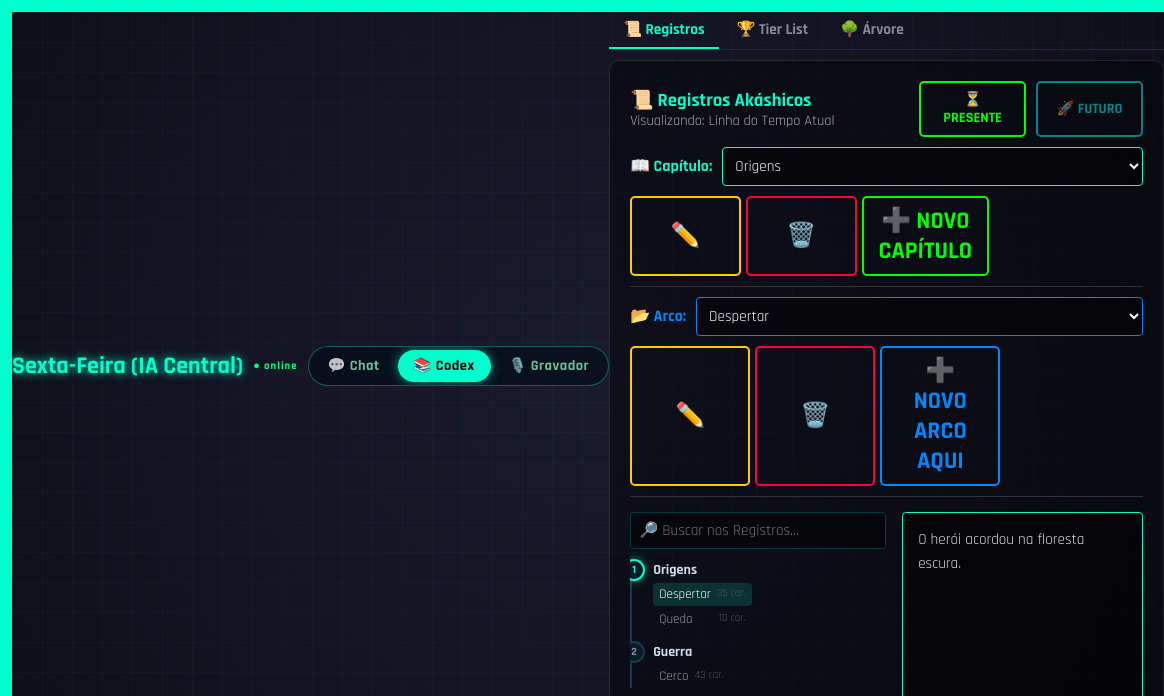
Test: NavegadorRegistros - busca › resultados ordenados por ocorrencias e mostram "N×"
Type "floresta" into the search field labelled "Buscar nos Registros" at point(758, 530), box [630, 512, 886, 549]
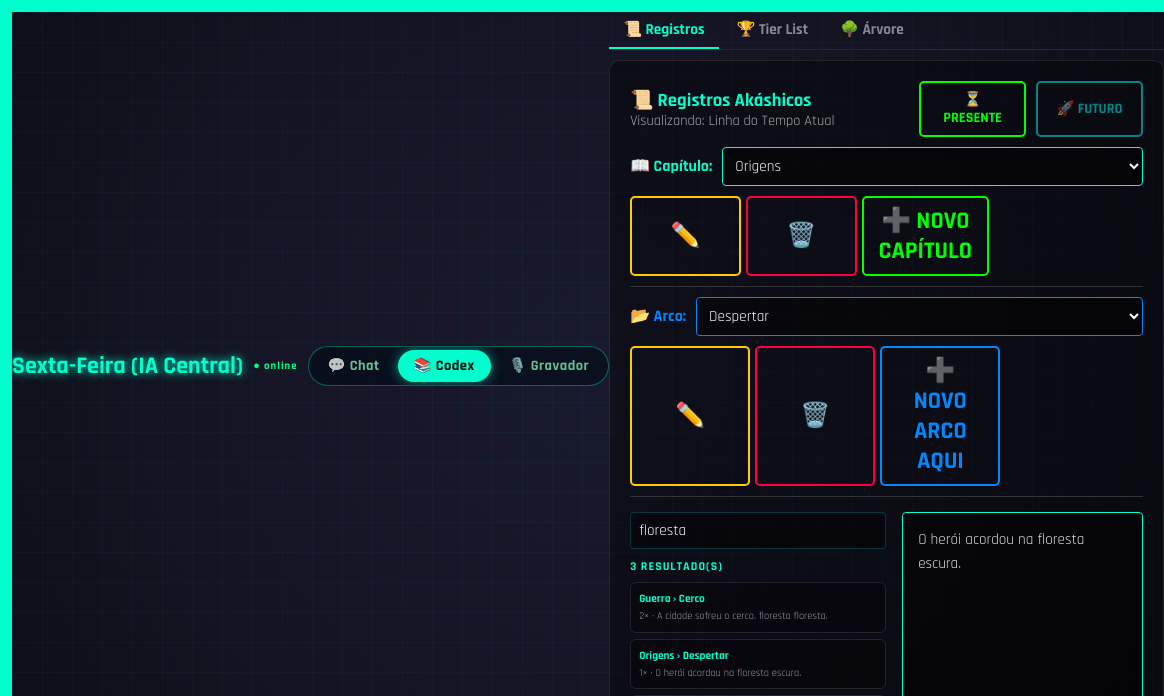
expect the button with class "sexta-registros-resultado" shows "Guerra › Cerco": met, box [630, 582, 886, 633]
expect the button with class "sexta-registros-resultado" shows "2×": met, box [630, 582, 886, 633]
